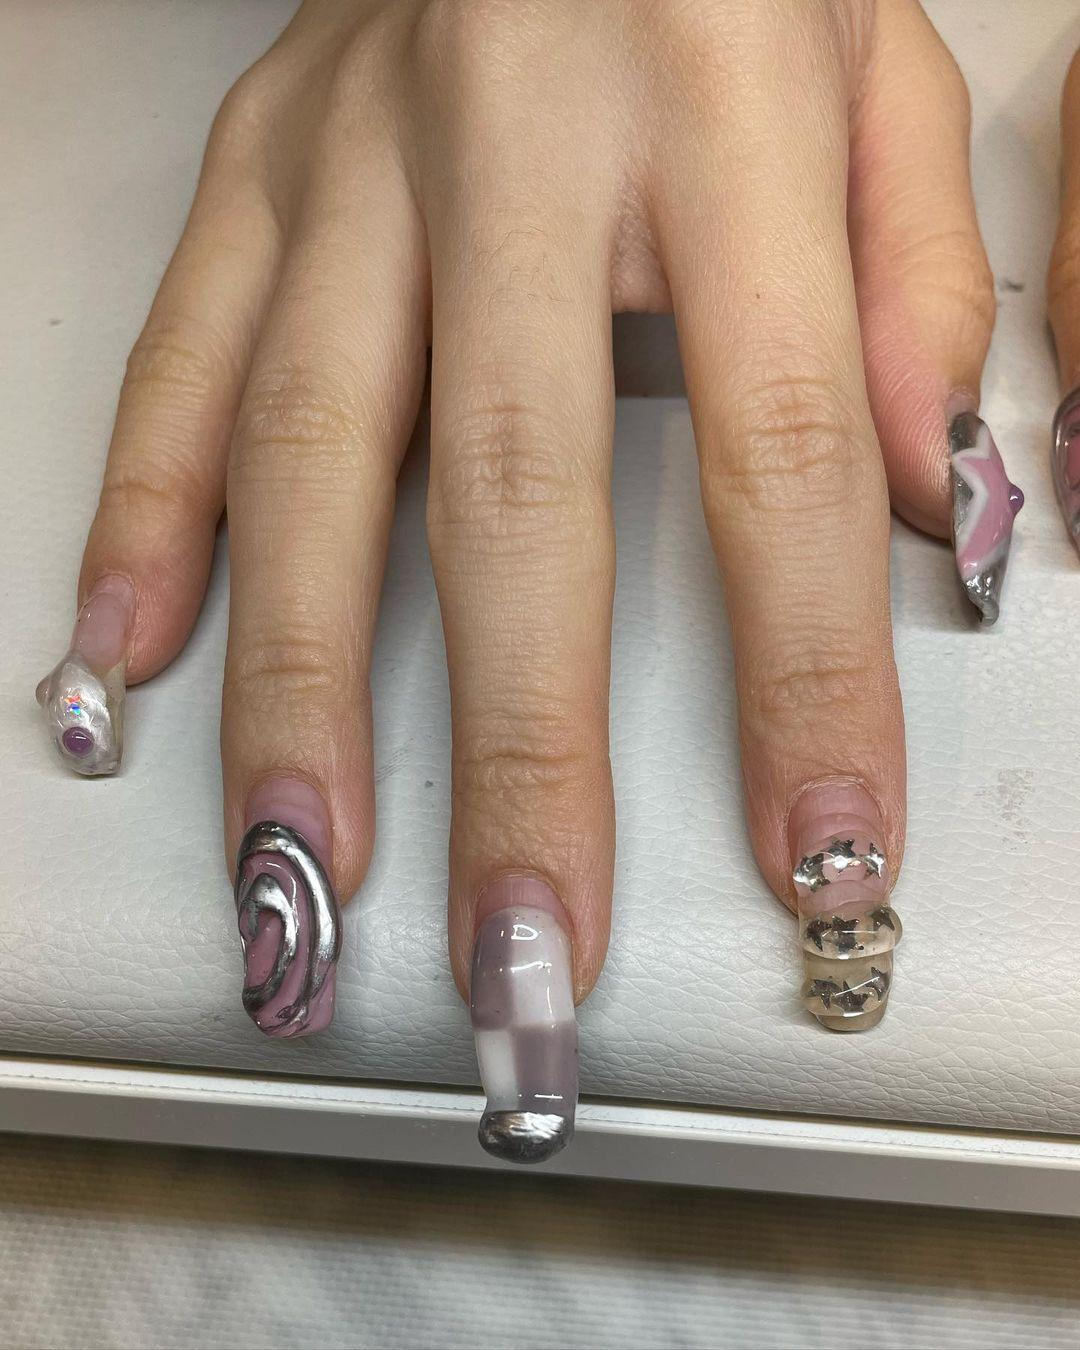nail: (467, 896, 579, 1164), (788, 781, 901, 1030), (232, 820, 341, 1040), (34, 570, 136, 777), (943, 409, 1023, 623), (1050, 385, 1079, 562)
